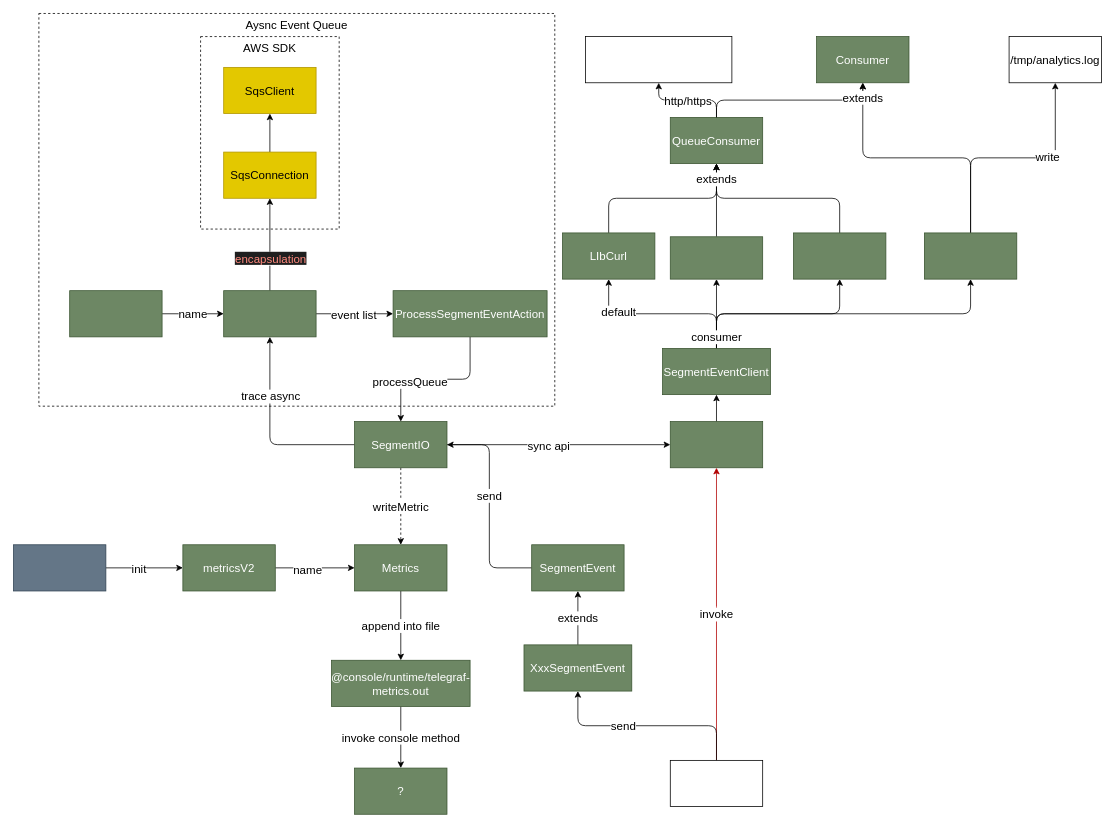
Some shapes in this 1115 by 828 pixel diagram are drawn without their labels. Here are the shapes that lost their labels. From the top down, the centre of each, then its label:
[658,59]: api.segement.io/v1/import
[716,257]: ForkCurl
[839,255]: Socket
[970,255]: File
[115,313]: segmentIoQueue
[269,313]: Queue
[716,444]: Segment
[59,567]: main-local
[716,783]: Some Business Class
